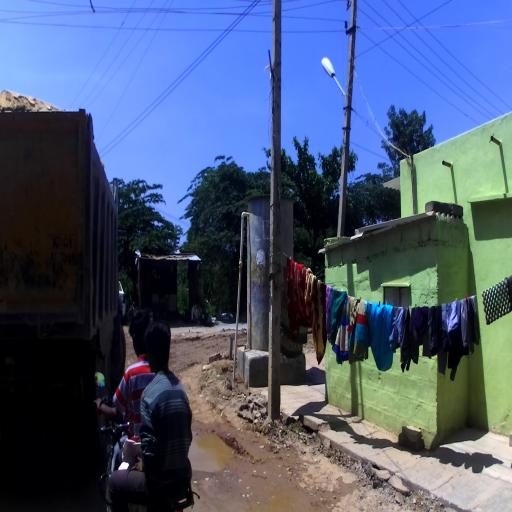street_light_0: (321, 56, 353, 138)
